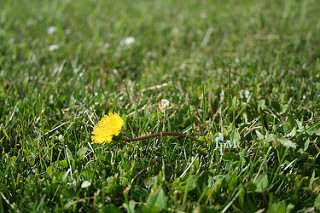dandelion yellow: (90, 111, 125, 146)
